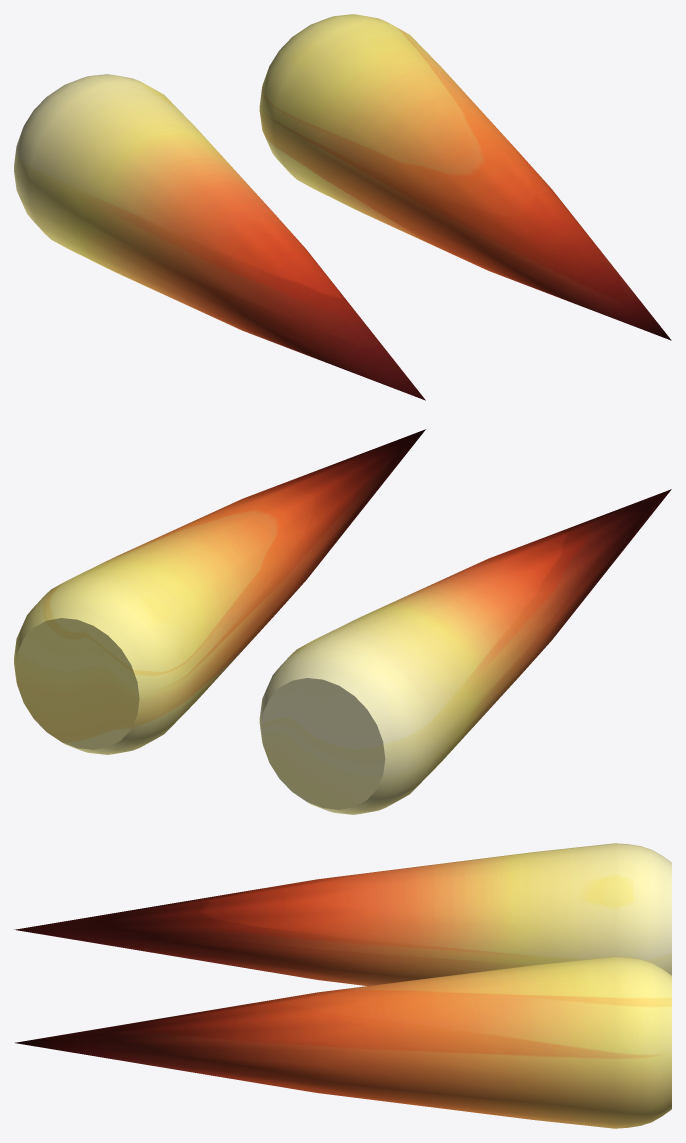
Rendered from thrust.obj.
3 renders of one model, top to bottom at view 1: azimuth 30°, elevation 25°; view 2: azimuth 150°, elevation 25°; view 3: azimuth 270°, elevation 25°, orthographic. The views are drawn at different scales.
Visible parts, largest first — view 1: SpaceShip; view 2: SpaceShip; view 3: SpaceShip.
Part boxes in pixels (x1,y1,x2,y2): SpaceShip: [14, 14, 671, 400]; SpaceShip: [14, 429, 671, 814]; SpaceShip: [14, 843, 671, 1128].
Size of the model in its own units: 28.88 by 11.27 by 42.98.
1 material, 1 textured.
